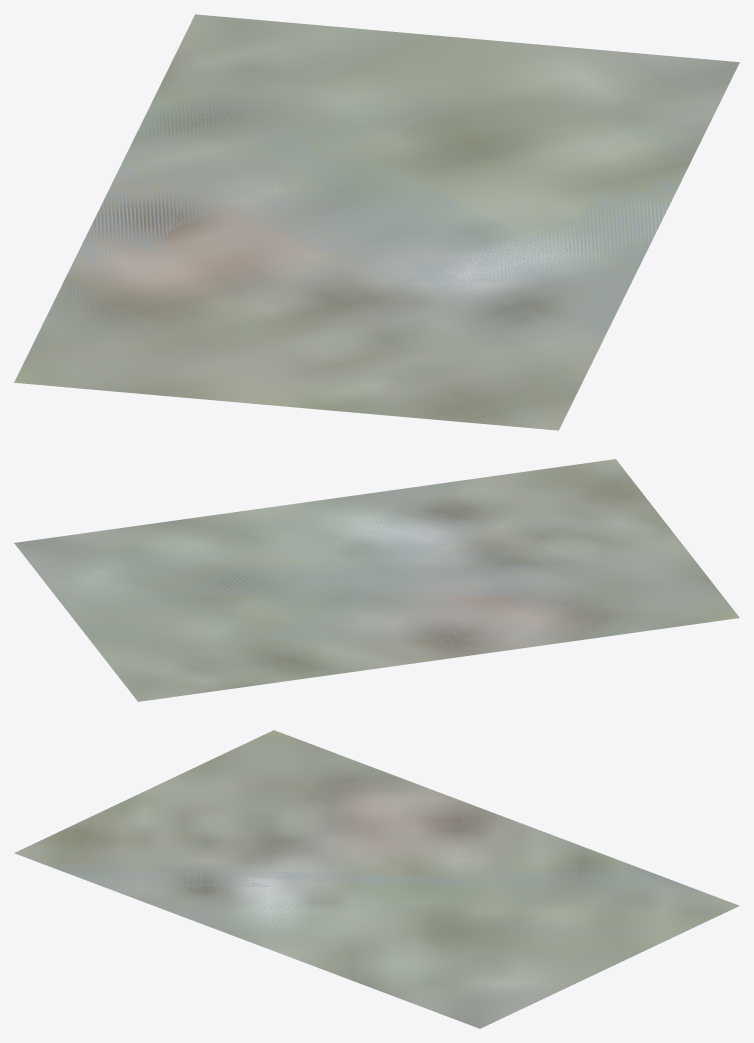
Rendered from 西庸城堡477.dae.
3 views of the same model, one above another, from view 1: azimuth 30°, elevation 25°; view 2: azimuth 150°, elevation 25°; view 3: azimuth 270°, elevation 25° (orthographic). The views are drawn at different scales.
Parts seen in each view (by area): view 1: SketchUp; view 2: SketchUp; view 3: SketchUp.
Boxes of the visible parts, x1,y1,x2,y2 form: SketchUp: (14,14,739,430); SketchUp: (14,459,739,701); SketchUp: (14,730,739,1028).
Size of the model in its own units: 53.49 by 54.91 by 0.
